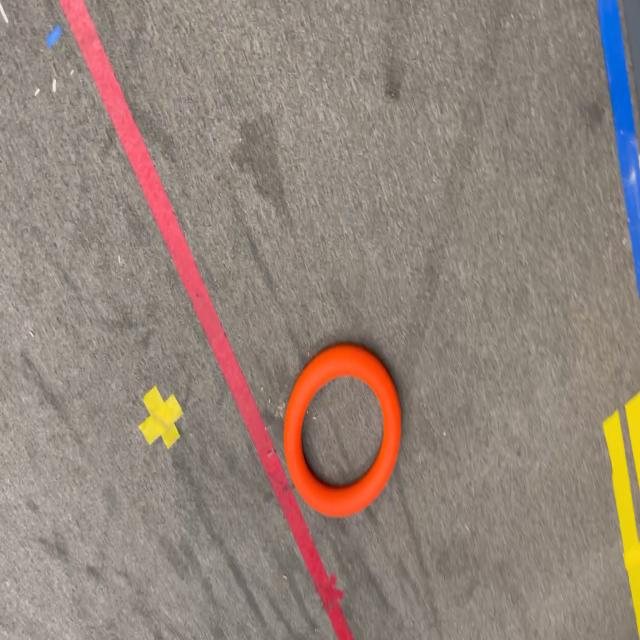note: (284, 344, 401, 518)
